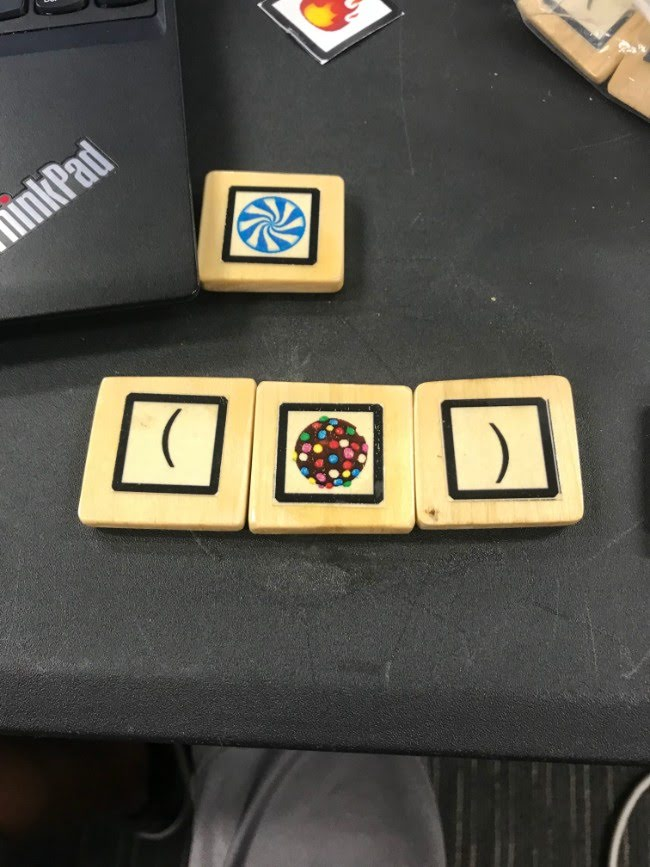cookie: (276, 402, 384, 503)
